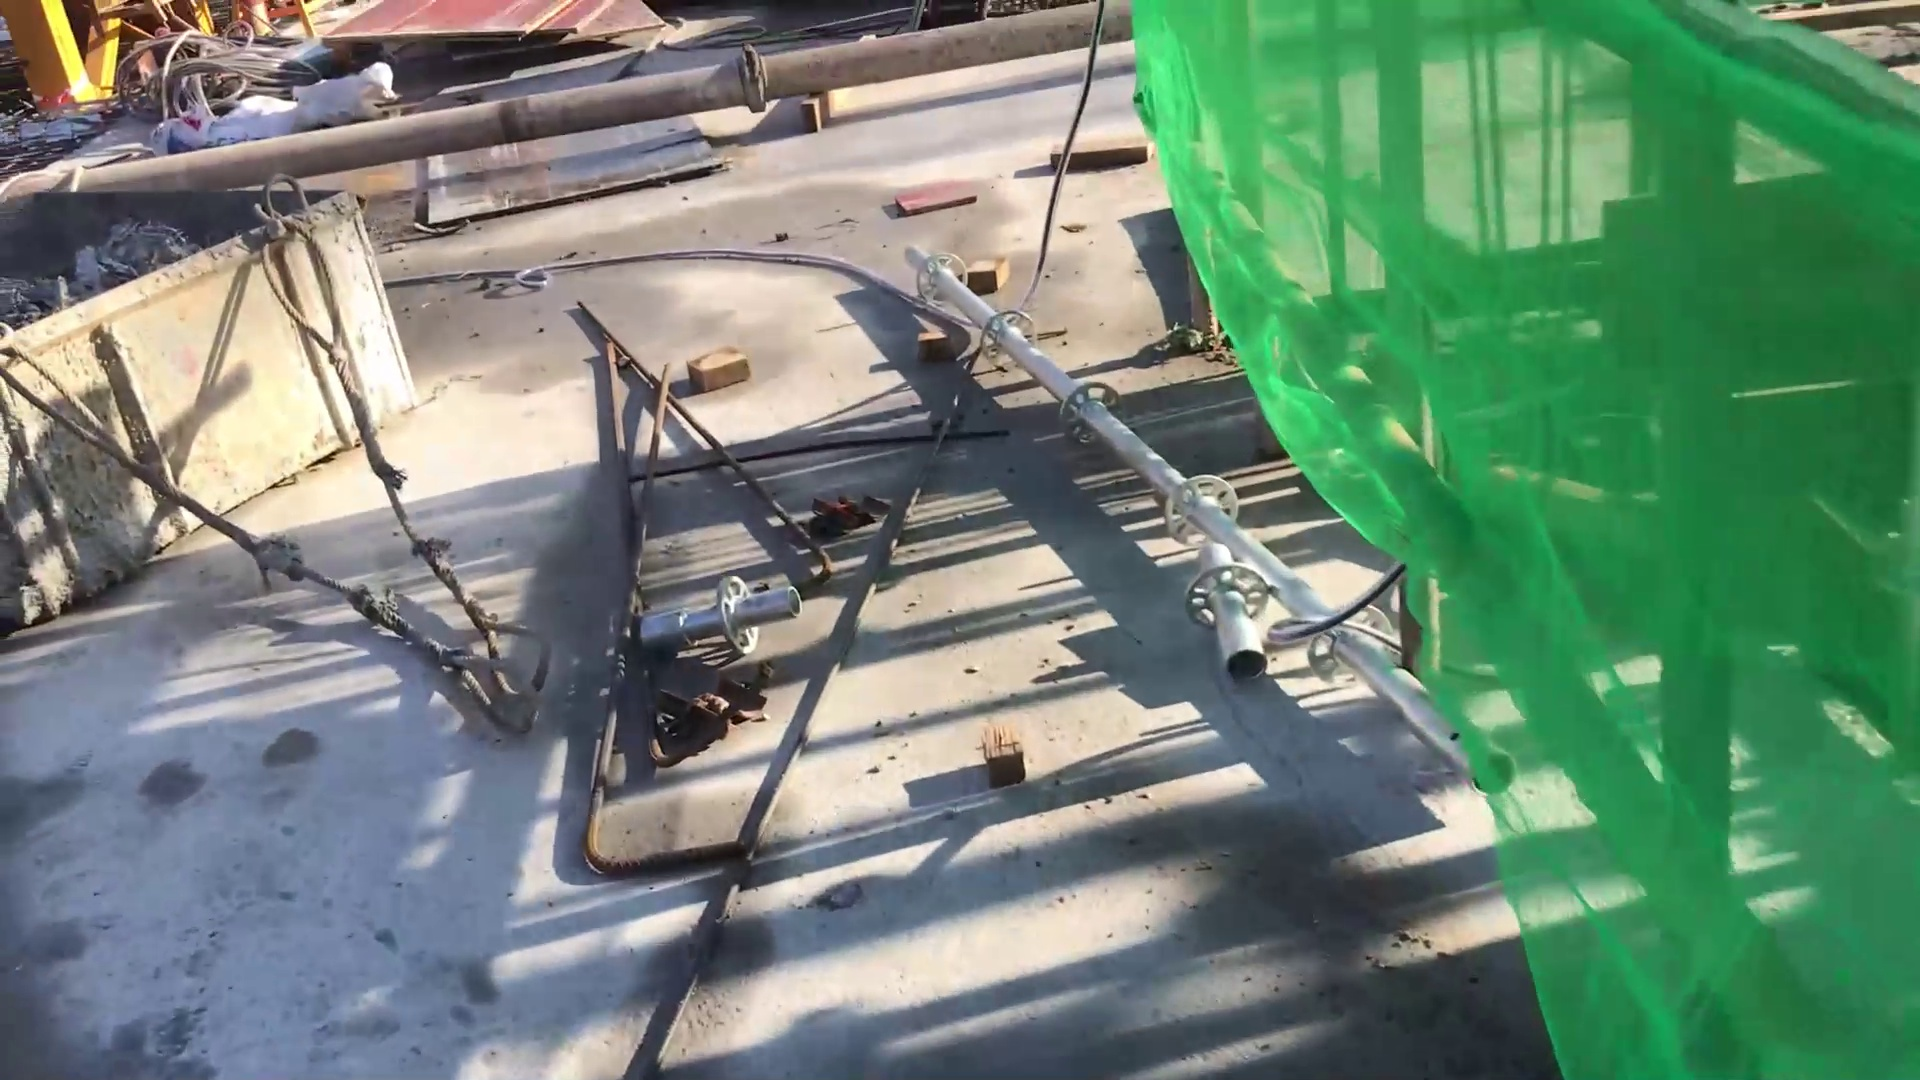hopper: (13, 177, 390, 649)
